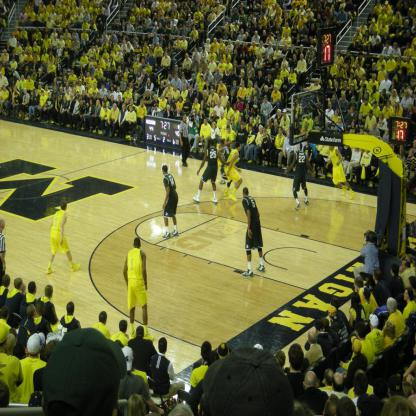face: (405, 290, 409, 301), (402, 262, 406, 272), (355, 282, 358, 292), (35, 308, 38, 317), (43, 306, 46, 315), (405, 256, 409, 262), (414, 345, 416, 356), (239, 145, 242, 152), (412, 26, 415, 33), (410, 151, 413, 158), (1, 72, 4, 78), (137, 59, 140, 65), (115, 40, 118, 46), (148, 79, 151, 85), (162, 83, 165, 89), (192, 88, 195, 94), (176, 65, 179, 71), (185, 116, 188, 122), (260, 127, 263, 133), (275, 121, 278, 127), (279, 129, 282, 135), (288, 133, 291, 139), (214, 141, 217, 147), (327, 19, 330, 25), (373, 75, 376, 81), (386, 130, 389, 136), (365, 99, 368, 105), (316, 79, 319, 85), (329, 103, 332, 109), (296, 101, 299, 107), (306, 123, 309, 129), (259, 73, 263, 77), (50, 94, 53, 99), (61, 88, 64, 93), (33, 35, 36, 40), (92, 45, 95, 50), (135, 43, 138, 48), (152, 45, 155, 50), (165, 53, 168, 58), (143, 70, 146, 75), (126, 69, 129, 74), (119, 50, 122, 55), (98, 65, 101, 70), (95, 84, 98, 89), (112, 97, 115, 102), (81, 101, 84, 106), (115, 105, 118, 110), (135, 4, 138, 9), (195, 58, 198, 63), (169, 74, 172, 79), (186, 55, 189, 60), (211, 57, 214, 62), (130, 107, 133, 112), (148, 91, 151, 96), (155, 97, 158, 102), (169, 96, 172, 101), (168, 107, 171, 112), (141, 101, 144, 106), (131, 100, 134, 105), (242, 62, 245, 67), (269, 75, 272, 80), (266, 88, 269, 93), (250, 83, 253, 88), (242, 83, 245, 88), (234, 82, 237, 87), (248, 96, 251, 101), (255, 97, 258, 102), (247, 105, 250, 110), (228, 102, 231, 107), (224, 91, 227, 96), (212, 90, 215, 95), (197, 88, 200, 93), (218, 101, 221, 106), (196, 99, 199, 104), (232, 116, 235, 121), (239, 117, 242, 122), (228, 128, 231, 133), (213, 124, 216, 129), (205, 120, 208, 125), (178, 109, 181, 114), (251, 118, 254, 123), (257, 118, 260, 123), (225, 140, 228, 145), (242, 125, 245, 130), (304, 23, 307, 28), (294, 55, 297, 60), (276, 64, 279, 69), (317, 23, 320, 28), (312, 25, 315, 30), (378, 3, 381, 8), (397, 32, 400, 37), (375, 32, 378, 37), (377, 40, 380, 45), (398, 57, 401, 62), (380, 56, 383, 61), (396, 101, 399, 106), (345, 83, 348, 88), (342, 96, 345, 101), (351, 109, 354, 114), (359, 115, 362, 120), (353, 122, 356, 127), (339, 118, 342, 123), (316, 117, 319, 122), (307, 115, 310, 120), (330, 145, 333, 150), (391, 268, 393, 275), (354, 38, 356, 45), (35, 44, 38, 48), (34, 59, 37, 63), (39, 86, 42, 90), (46, 87, 49, 91), (65, 77, 68, 81), (67, 83, 70, 87), (64, 97, 67, 101), (74, 82, 77, 86), (33, 5, 35, 11), (96, 39, 99, 43), (151, 50, 153, 56), (148, 63, 151, 67), (142, 60, 145, 64), (131, 69, 133, 75), (100, 76, 103, 80), (88, 84, 91, 88), (103, 87, 106, 91), (118, 89, 121, 93), (98, 95, 101, 99), (83, 92, 86, 96), (71, 96, 74, 100), (183, 37, 186, 41), (168, 85, 171, 89), (174, 75, 177, 79), (176, 70, 178, 76), (187, 66, 190, 70), (213, 4, 216, 8), (123, 42, 126, 46), (106, 67, 109, 71), (202, 58, 205, 62), (241, 5, 244, 9), (246, 34, 249, 38), (221, 40, 224, 44), (227, 70, 230, 74), (162, 96, 165, 100), (155, 106, 158, 110), (242, 74, 245, 78), (249, 75, 252, 79), (215, 83, 218, 87), (228, 122, 231, 126), (192, 110, 195, 114), (250, 127, 253, 131), (263, 132, 266, 136), (221, 142, 223, 148), (305, 36, 308, 40), (301, 55, 303, 61), (283, 66, 286, 70), (277, 56, 280, 60), (308, 17, 311, 21), (318, 15, 321, 19), (386, 4, 389, 8), (384, 21, 386, 27), (386, 44, 389, 48), (394, 45, 397, 49), (414, 44, 416, 50), (396, 67, 399, 71), (405, 93, 408, 97), (393, 91, 395, 97), (363, 87, 366, 91), (351, 75, 354, 79), (335, 84, 338, 88), (333, 96, 336, 100), (402, 47, 406, 50), (373, 88, 376, 92), (414, 142, 416, 148), (345, 145, 348, 149), (357, 148, 360, 152), (307, 90, 310, 94), (76, 98, 79, 102), (1, 64, 3, 69), (67, 89, 69, 94), (56, 87, 58, 92), (97, 45, 99, 50), (156, 63, 158, 68), (98, 102, 100, 107), (124, 105, 126, 110), (170, 36, 172, 41), (12, 68, 14, 73), (221, 49, 223, 54), (227, 50, 229, 55), (235, 50, 237, 55), (228, 59, 230, 64), (217, 69, 219, 74), (207, 70, 209, 75), (261, 42, 263, 47), (260, 65, 262, 70), (255, 85, 257, 90), (232, 92, 234, 97), (265, 98, 267, 103), (188, 98, 190, 103), (207, 82, 209, 87), (235, 105, 237, 110), (213, 101, 215, 106), (215, 112, 217, 117), (222, 113, 224, 118), (278, 111, 280, 116), (262, 14, 264, 19), (286, 33, 288, 38), (298, 35, 300, 40), (311, 39, 313, 44), (348, 52, 350, 57), (386, 32, 388, 37), (408, 57, 410, 62), (391, 55, 393, 60), (358, 65, 360, 70), (393, 80, 395, 85), (386, 76, 388, 81), (403, 70, 405, 75), (374, 65, 376, 70), (383, 90, 385, 95), (388, 102, 390, 107), (381, 114, 383, 119), (370, 112, 372, 117), (374, 124, 376, 129), (336, 111, 338, 116), (410, 107, 412, 112), (32, 93, 35, 96), (111, 51, 114, 54), (167, 1, 170, 4), (193, 27, 196, 30), (193, 77, 196, 80), (406, 23, 409, 26), (9, 43, 11, 47), (18, 43, 20, 47), (44, 62, 46, 66), (44, 50, 46, 54), (10, 89, 12, 93), (15, 88, 17, 92), (36, 91, 38, 95), (25, 90, 27, 94), (41, 71, 43, 75), (59, 96, 61, 100), (55, 79, 57, 83), (59, 45, 61, 49), (66, 46, 68, 50), (37, 28, 39, 32), (46, 36, 48, 40), (47, 28, 49, 32), (75, 38, 77, 42), (72, 72, 74, 76), (74, 90, 76, 94), (51, 2, 53, 6), (45, 10, 47, 14), (64, 11, 66, 15), (65, 18, 67, 22), (72, 20, 74, 24), (57, 20, 59, 24), (58, 11, 60, 15), (89, 4, 91, 8), (94, 14, 96, 18), (78, 20, 80, 24), (105, 40, 107, 44), (105, 49, 107, 53), (84, 53, 86, 57), (161, 8, 163, 12), (137, 15, 139, 19), (115, 21, 117, 25), (123, 20, 125, 24), (160, 25, 162, 29), (166, 26, 168, 30), (162, 36, 164, 40), (156, 33, 158, 37), (149, 34, 151, 38), (120, 32, 122, 36), (128, 45, 130, 49), (145, 43, 147, 47), (139, 72, 141, 76), (119, 68, 121, 72), (129, 59, 131, 63), (122, 58, 124, 62), (111, 41, 113, 45), (111, 58, 113, 62), (108, 78, 110, 82), (116, 77, 118, 81), (123, 78, 125, 82), (91, 65, 93, 69), (81, 73, 83, 77), (88, 73, 90, 77), (80, 81, 82, 85), (112, 87, 114, 91), (119, 97, 121, 101), (105, 96, 107, 100), (90, 95, 92, 99), (77, 92, 79, 96), (91, 101, 93, 105), (103, 102, 105, 106), (105, 108, 107, 112), (169, 24, 171, 28), (138, 79, 140, 83), (175, 87, 177, 91), (184, 86, 186, 90), (183, 78, 185, 82), (178, 38, 180, 42), (204, 11, 206, 15), (208, 40, 210, 44), (14, 78, 16, 82), (242, 11, 244, 15), (251, 15, 253, 19), (242, 31, 244, 35), (254, 43, 256, 47), (244, 43, 246, 47), (237, 43, 239, 47), (232, 31, 234, 35), (226, 30, 228, 34), (218, 28, 220, 32), (215, 40, 217, 44), (234, 62, 236, 66), (222, 59, 224, 63), (233, 71, 235, 75), (128, 98, 130, 102), (270, 44, 272, 48), (244, 53, 246, 57), (250, 53, 252, 57), (250, 65, 252, 69), (239, 98, 241, 102), (180, 98, 182, 102), (202, 77, 204, 81), (221, 82, 223, 86), (205, 92, 207, 96), (202, 102, 204, 106), (172, 107, 174, 111), (195, 68, 197, 72), (254, 111, 256, 115), (268, 121, 270, 125), (284, 112, 286, 116), (274, 6, 276, 10), (277, 19, 279, 23), (277, 24, 279, 28), (274, 23, 276, 27), (269, 17, 271, 21), (264, 32, 266, 36), (278, 37, 280, 41), (287, 24, 289, 28), (287, 14, 289, 18), (294, 6, 296, 10), (302, 7, 304, 11), (301, 47, 303, 51), (293, 46, 295, 50), (286, 46, 288, 50), (277, 46, 279, 50), (292, 70, 294, 74), (319, 7, 321, 11), (327, 8, 329, 12), (334, 8, 336, 12), (311, 47, 313, 51), (339, 54, 341, 58), (347, 64, 349, 68), (339, 65, 341, 69), (399, 3, 401, 7), (410, 10, 412, 14), (398, 14, 400, 18), (408, 32, 410, 36), (393, 23, 395, 27), (389, 20, 391, 24), (373, 21, 375, 25), (363, 23, 365, 27), (358, 30, 360, 34), (368, 55, 370, 59), (360, 41, 362, 45), (364, 76, 366, 80), (374, 103, 376, 107), (352, 86, 354, 90), (352, 100, 354, 104), (361, 129, 363, 133), (326, 123, 328, 127), (306, 142, 308, 146), (107, 59, 109, 63), (28, 44, 30, 47), (51, 46, 53, 49), (13, 59, 15, 62), (4, 88, 6, 91), (23, 77, 25, 80), (29, 78, 31, 81), (16, 95, 18, 98), (42, 92, 44, 95), (34, 72, 36, 75), (27, 69, 29, 72), (12, 36, 14, 39), (23, 28, 25, 31), (40, 37, 42, 40), (54, 31, 56, 34), (56, 38, 58, 41), (61, 37, 63, 40), (67, 32, 69, 35), (74, 32, 76, 35), (68, 38, 70, 41), (42, 4, 44, 7), (49, 19, 51, 22), (44, 19, 46, 22), (36, 18, 38, 21), (22, 19, 24, 22), (27, 4, 29, 7), (67, 5, 69, 8), (106, 5, 108, 8), (101, 5, 103, 8), (75, 4, 77, 7), (101, 11, 103, 14), (85, 21, 87, 24), (91, 23, 93, 26), (85, 32, 87, 35), (104, 34, 106, 37), (143, 6, 145, 9), (143, 17, 145, 20), (123, 13, 125, 16), (129, 23, 131, 26), (144, 25, 146, 28), (156, 25, 158, 28), (157, 45, 159, 48), (82, 66, 84, 69), (92, 76, 94, 79), (182, 4, 184, 7), (186, 4, 188, 7), (189, 10, 191, 13), (189, 17, 191, 20), (172, 18, 174, 21), (184, 25, 186, 28), (195, 50, 197, 53), (218, 5, 220, 8), (213, 11, 215, 14), (112, 34, 114, 37), (132, 53, 134, 56), (113, 68, 115, 71), (133, 80, 135, 83), (198, 9, 200, 12), (203, 17, 205, 20), (194, 20, 196, 23), (175, 45, 177, 48), (258, 6, 260, 9), (236, 11, 238, 14), (255, 24, 257, 27), (229, 23, 231, 26), (256, 34, 258, 37), (229, 42, 231, 45), (211, 50, 213, 53), (200, 71, 202, 74), (130, 85, 132, 88), (128, 91, 130, 94), (135, 128, 138, 130), (259, 56, 261, 59), (266, 56, 268, 59), (263, 4, 265, 7), (278, 15, 280, 18), (270, 34, 272, 37), (295, 26, 297, 29), (302, 15, 304, 18), (297, 18, 299, 21), (284, 58, 286, 61), (343, 8, 345, 11), (391, 13, 393, 16), (383, 11, 385, 14), (366, 33, 368, 36), (407, 46, 409, 49), (369, 44, 371, 47), (361, 56, 363, 59), (382, 67, 384, 70), (415, 107, 416, 113), (73, 63, 75, 66), (100, 58, 102, 61), (12, 78, 13, 83), (415, 92, 416, 97), (36, 54, 38, 56), (29, 54, 31, 56), (5, 52, 7, 54), (64, 71, 66, 73), (23, 35, 25, 37), (23, 11, 25, 13), (62, 4, 64, 6), (79, 11, 80, 15), (86, 12, 88, 14), (146, 8, 148, 10), (148, 17, 150, 19), (144, 36, 145, 40), (136, 33, 137, 37), (167, 9, 169, 11), (173, 1, 175, 3), (206, 3, 208, 5), (201, 3, 203, 5), (202, 28, 204, 30), (159, 53, 161, 55), (285, 10, 287, 12), (309, 11, 311, 13), (86, 71, 87, 75), (44, 46, 45, 49), (52, 61, 53, 64), (24, 52, 25, 55), (14, 52, 15, 55), (57, 54, 58, 57), (16, 27, 17, 30), (60, 30, 61, 33), (53, 10, 54, 13), (29, 19, 30, 22), (39, 11, 40, 14), (95, 5, 96, 8), (81, 4, 82, 7), (73, 13, 74, 16), (153, 10, 154, 13), (155, 15, 156, 18), (140, 24, 141, 27), (180, 5, 181, 8), (192, 4, 193, 7), (182, 10, 183, 13), (199, 2, 200, 5), (170, 46, 171, 49), (251, 5, 252, 8), (250, 23, 251, 26), (236, 23, 237, 26), (277, 6, 278, 9), (372, 11, 373, 14), (51, 53, 52, 55), (132, 14, 133, 16), (135, 25, 136, 27), (181, 18, 182, 20), (175, 10, 176, 12), (204, 49, 205, 51), (254, 15, 255, 17), (175, 27, 176, 28)
